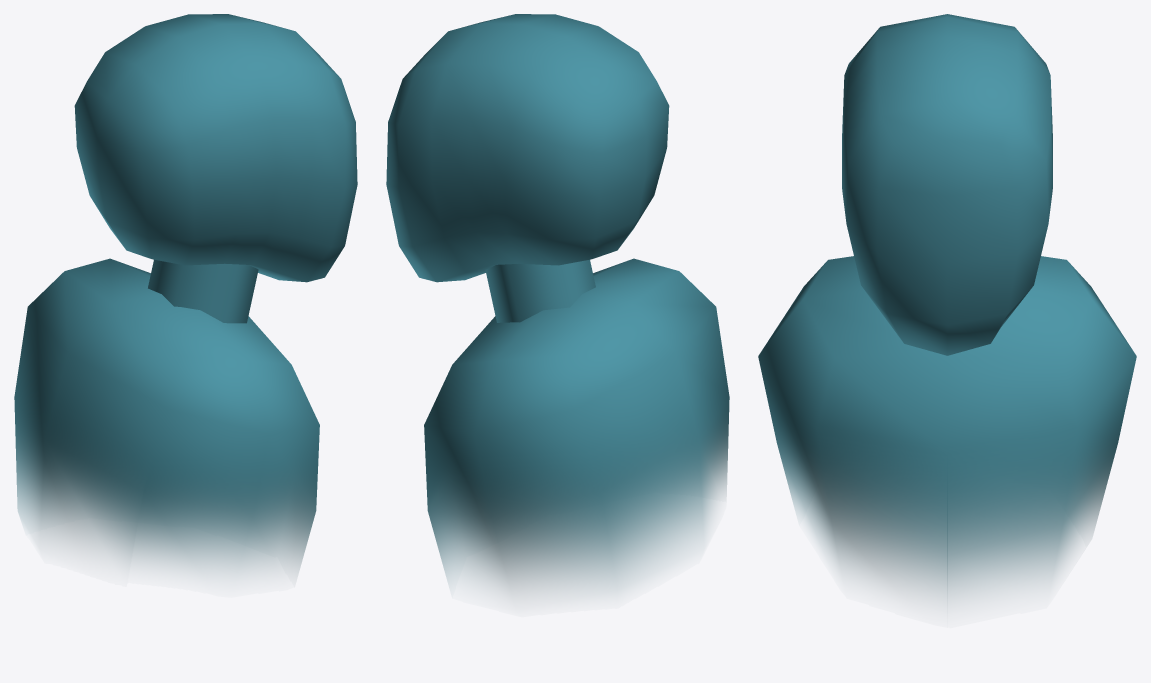
The model's file is Texture_Test_2.glb.
The picture shows the model from 3 angles, left to right: view 1: azimuth 30°, elevation 25°; view 2: azimuth 150°, elevation 25°; view 3: azimuth 270°, elevation 25°; orthographic projection. The views are drawn at different scales.
Visible parts, largest first — view 1: STorso.001, SHead.001, SNeck.001; view 2: STorso.001, SHead.001, SNeck.001; view 3: STorso.001, SHead.001.
Part boxes in pixels (x1=…): STorso.001: x1=14, y1=258, x2=319, y2=572; SHead.001: x1=74, y1=14, x2=357, y2=282; SNeck.001: x1=148, y1=259, x2=258, y2=323; STorso.001: x1=424, y1=258, x2=729, y2=592; SHead.001: x1=386, y1=14, x2=669, y2=282; SNeck.001: x1=485, y1=259, x2=595, y2=322; STorso.001: x1=758, y1=256, x2=1136, y2=604; SHead.001: x1=842, y1=14, x2=1052, y2=355.
Bounding box in the file's own units: 0.6836 × 1.38 × 0.7417.
Materials: 1 (1 with a texture image).
